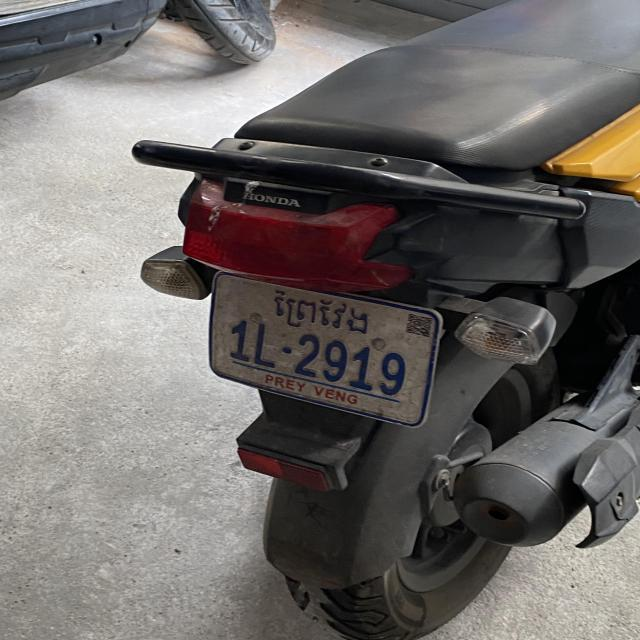Prey_Veng: (266, 286, 380, 341)
